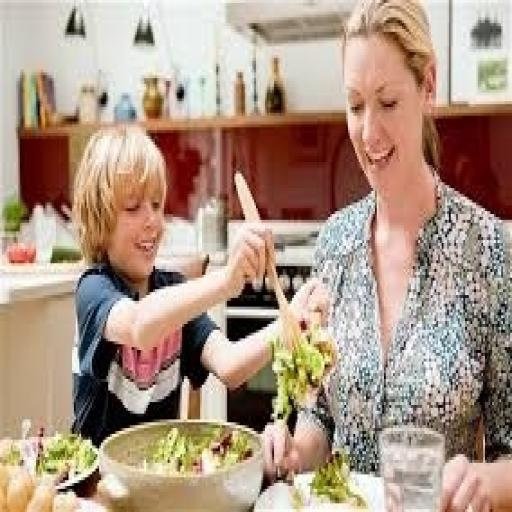eating: (260, 0, 510, 509), (69, 118, 319, 442)
